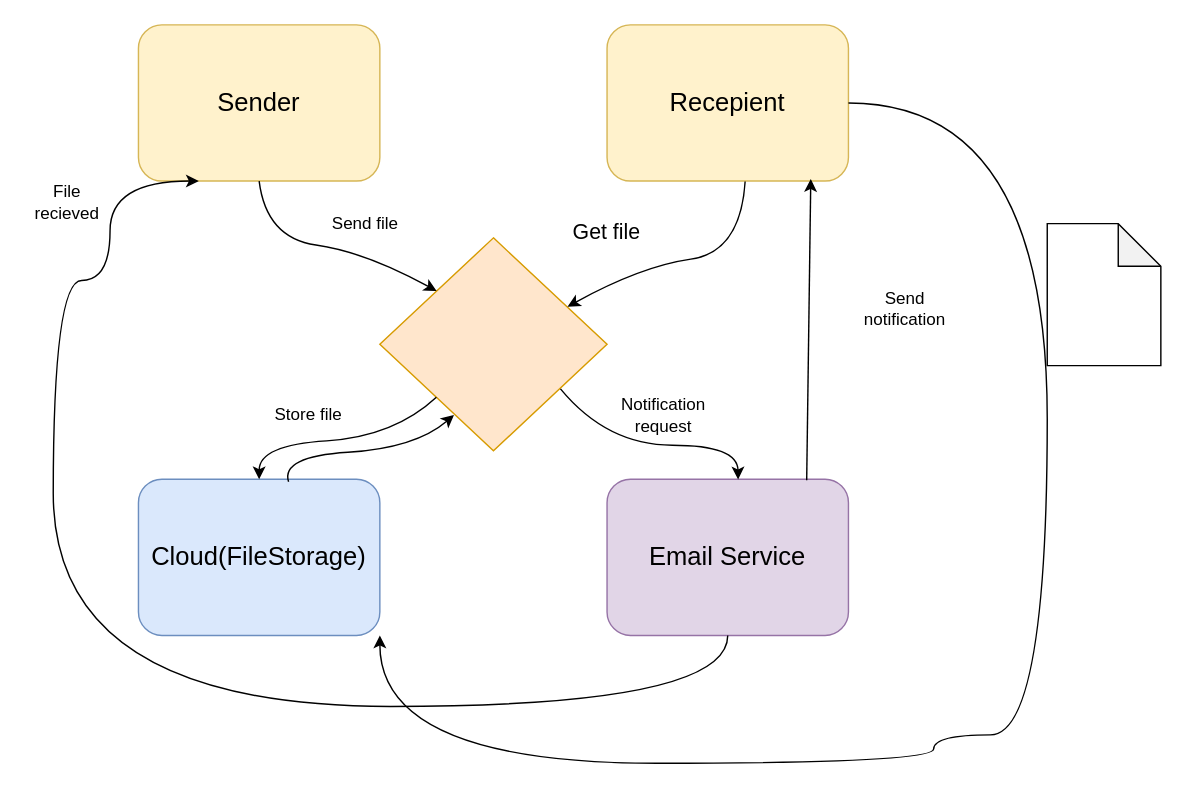
Image size: 1186x788. Some labels were removed from this diagram. Each missing label, with the centre of its shape:
"File Transfer Service" goes at point 492,343.
"User downoloads file directly from Cloud using WebApp" goes at point 1103,294.
